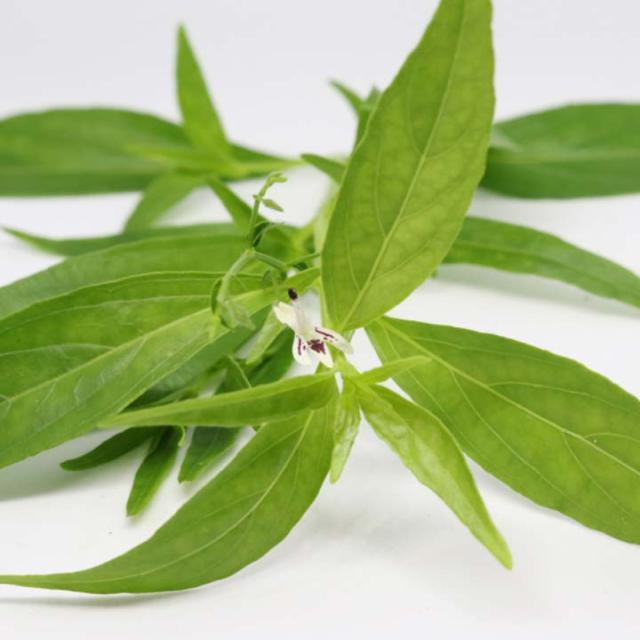Chirata: (16, 58, 640, 640)
